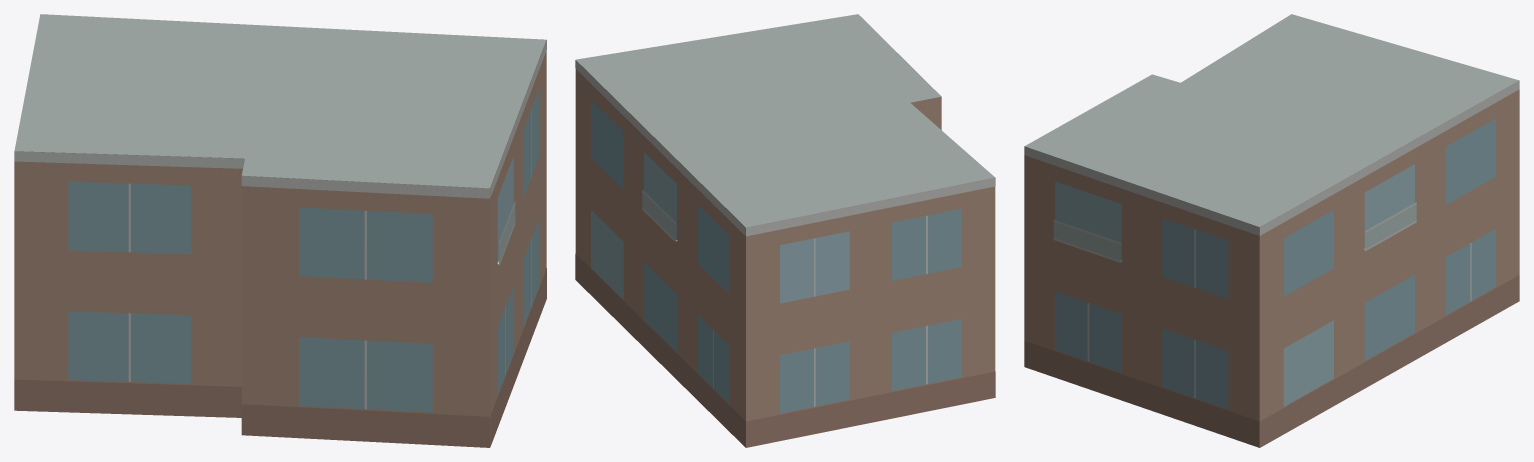
File: survey-upis-32605860.glb
3 renders of one model, left to right at view 1: azimuth 30°, elevation 25°; view 2: azimuth 150°, elevation 25°; view 3: azimuth 270°, elevation 25°, orthographic. The views are drawn at different scales.
Parts seen in each view (by area): view 1: survey-upis-32605860.tmp; view 2: survey-upis-32605860.tmp; view 3: survey-upis-32605860.tmp.
Part boxes in pixels (bbox=[...]): survey-upis-32605860.tmp: bbox=[14, 14, 546, 447]; survey-upis-32605860.tmp: bbox=[575, 14, 995, 447]; survey-upis-32605860.tmp: bbox=[1024, 14, 1519, 447].
Bounding box in the file's own units: 12.64 × 6.1 × 12.41.
